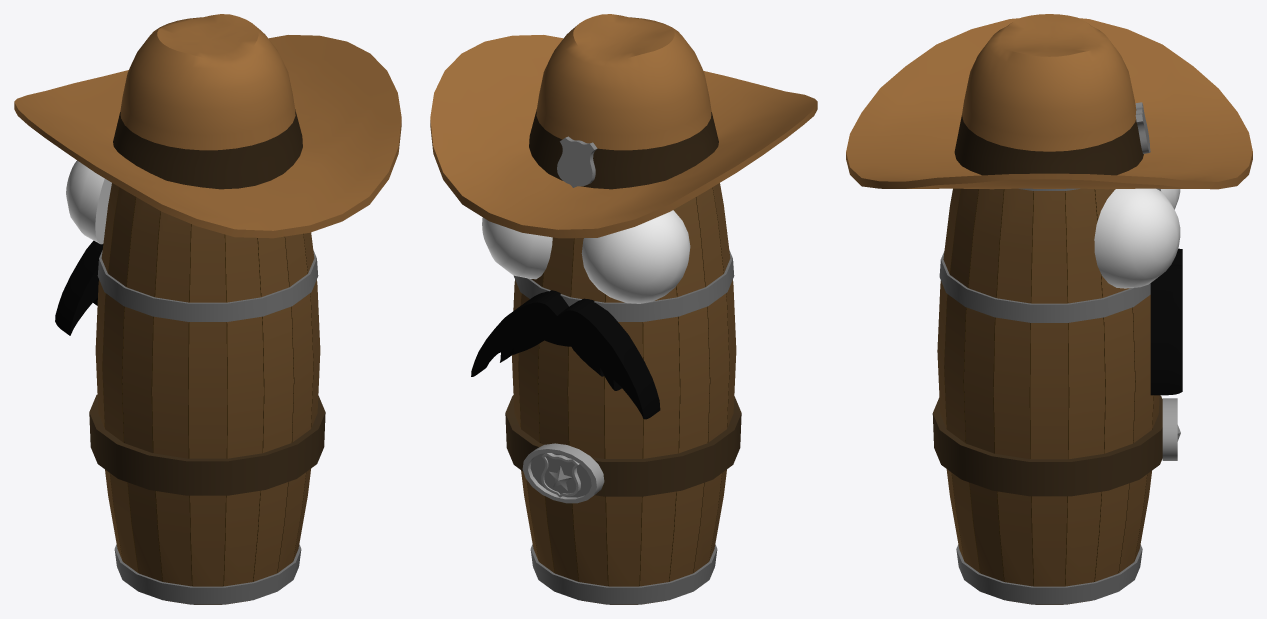
File: barrel deputy upgrade 2.fbx
The picture shows the model from 3 angles, left to right: view 1: azimuth 30°, elevation 25°; view 2: azimuth 150°, elevation 25°; view 3: azimuth 270°, elevation 25°; orthographic projection.
Visible parts, largest first — view 1: barrel deputy; view 2: barrel deputy; view 3: barrel deputy.
Boxes of the visible parts, <box> form: barrel deputy: <box>14,14,401,604</box>; barrel deputy: <box>430,14,817,604</box>; barrel deputy: <box>846,14,1252,604</box>.
Size of the model in its own units: 674 by 1059 by 732.
